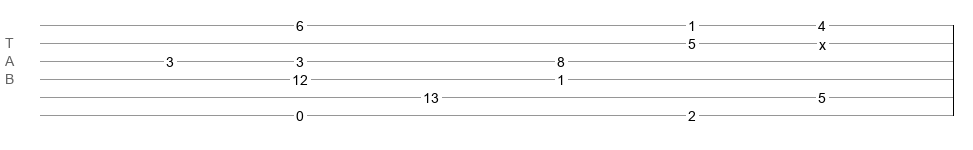0: (296, 108, 304, 118)
1: (557, 72, 565, 82), (688, 18, 696, 28)
12: (292, 72, 308, 82)
13: (423, 90, 439, 100)
2: (688, 108, 696, 118)
3: (166, 54, 174, 64), (296, 54, 304, 64)
4: (818, 18, 826, 28)
5: (688, 36, 696, 46), (818, 90, 826, 100)
6: (296, 18, 304, 28)
8: (557, 54, 565, 64)
x: (819, 37, 826, 45)
